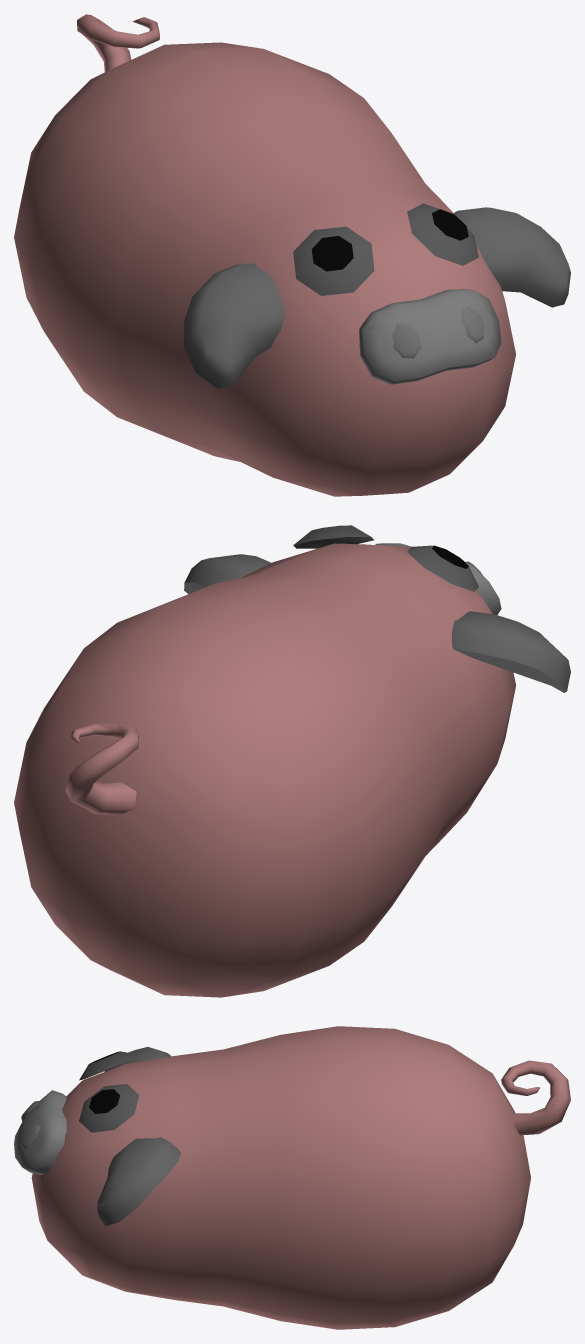
Rendered from SM_Pig.fbx.
3 renders of one model, top to bottom at view 1: azimuth 30°, elevation 25°; view 2: azimuth 150°, elevation 25°; view 3: azimuth 270°, elevation 25°, orthographic. The views are drawn at different scales.
Visible parts, largest first — view 1: SM_Pig1; view 2: SM_Pig1; view 3: SM_Pig1.
Boxes of the visible parts, bbox=[...] form: SM_Pig1: bbox=[14, 14, 570, 496]; SM_Pig1: bbox=[14, 525, 570, 997]; SM_Pig1: bbox=[14, 1026, 570, 1329].
Bounding box in the file's own units: 93.74 × 86.39 × 159.
